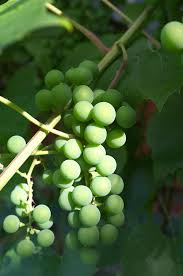grapes: (41, 67, 139, 237)
